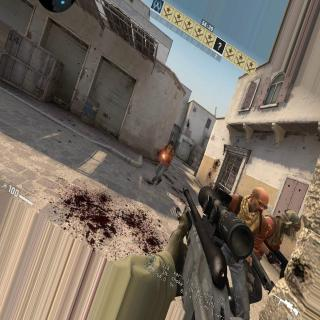T-Body: (216, 183, 261, 291), (261, 203, 302, 261), (152, 140, 175, 186)
T-Head: (280, 206, 300, 242), (250, 185, 268, 216), (169, 140, 174, 148)
